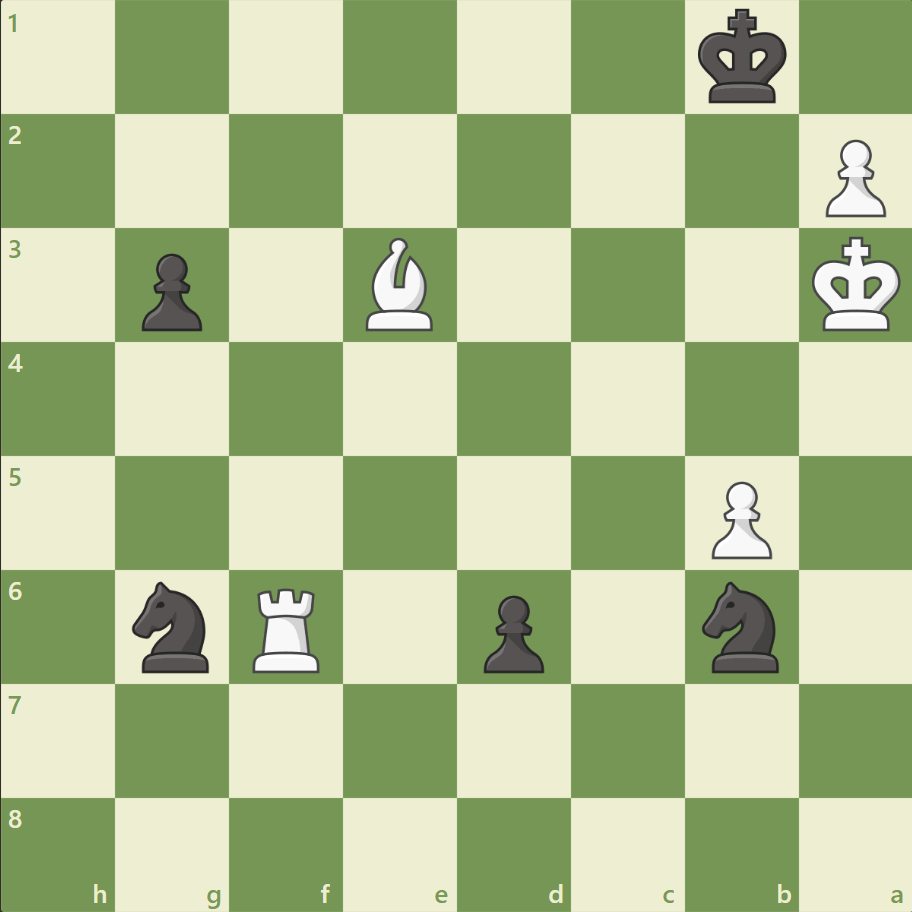B: (358, 233, 442, 336)
K: (806, 231, 906, 339)
P: (701, 473, 776, 564), (815, 132, 889, 223)
R: (246, 579, 329, 676)
k: (692, 4, 792, 112)
n: (124, 575, 222, 677), (692, 575, 789, 677)
p: (474, 586, 549, 677), (133, 246, 208, 337)
